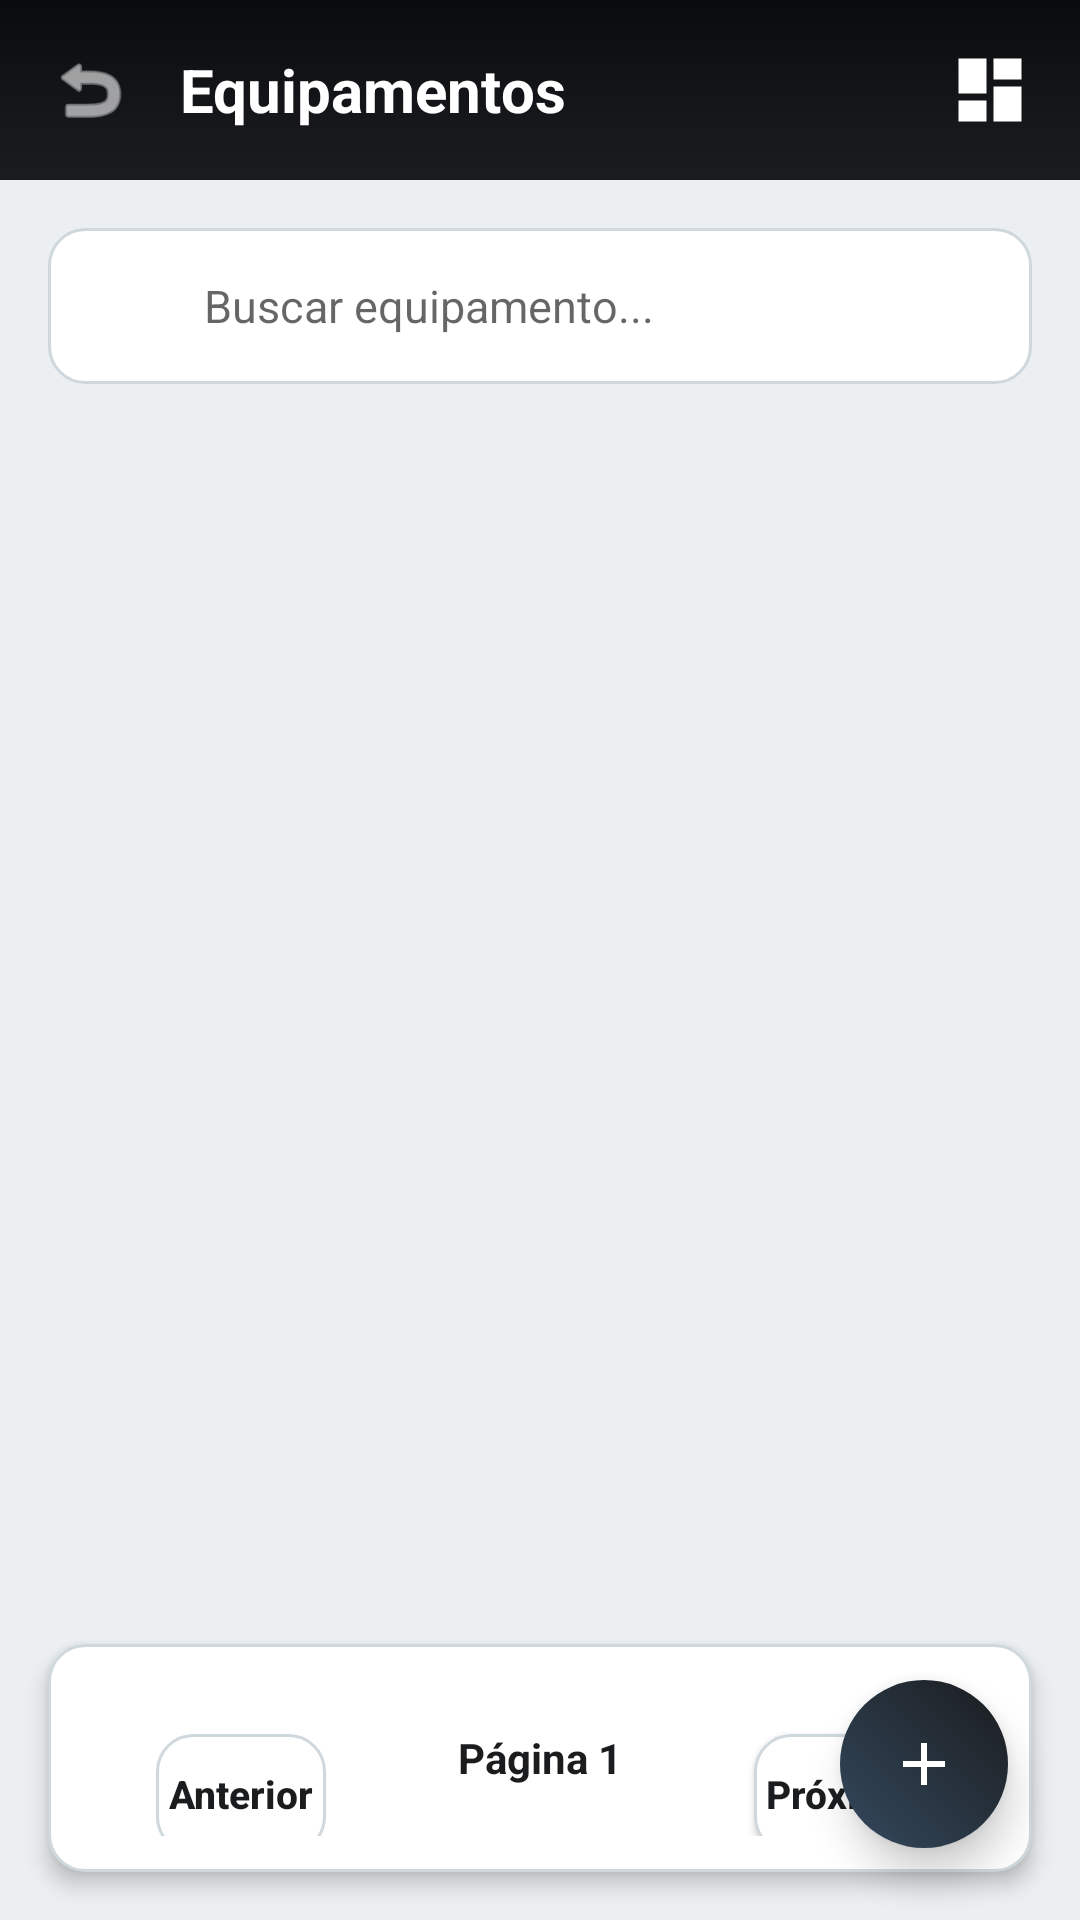

Screen size 1080px×1920px. Icon name, then its box in pixels as (x1, y1, x2, y2):
add: (840, 1680, 1008, 1848)
dashboard: (958, 58, 1022, 122)
revert: (61, 63, 122, 118)
